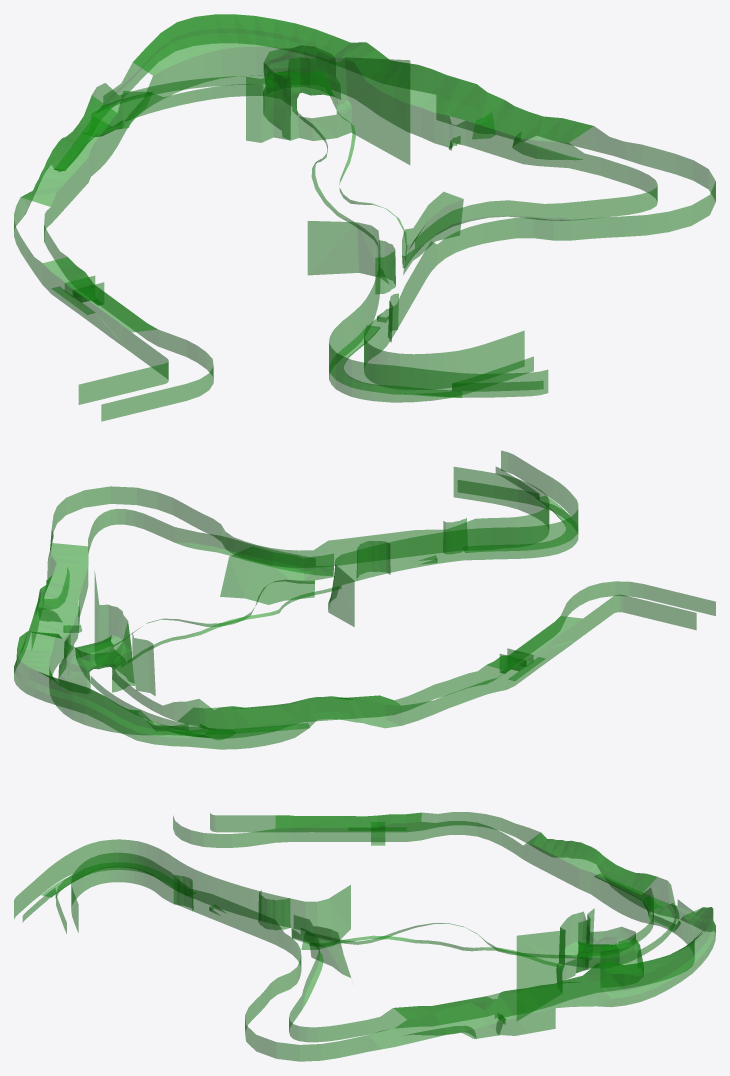
Rendered from wall.obj.
3 views of the same model, one above another, from view 1: azimuth 30°, elevation 25°; view 2: azimuth 150°, elevation 25°; view 3: azimuth 270°, elevation 25° (orthographic). The views are drawn at different scales.
Bounding box in the file's own units: 698 × 103 × 758.
